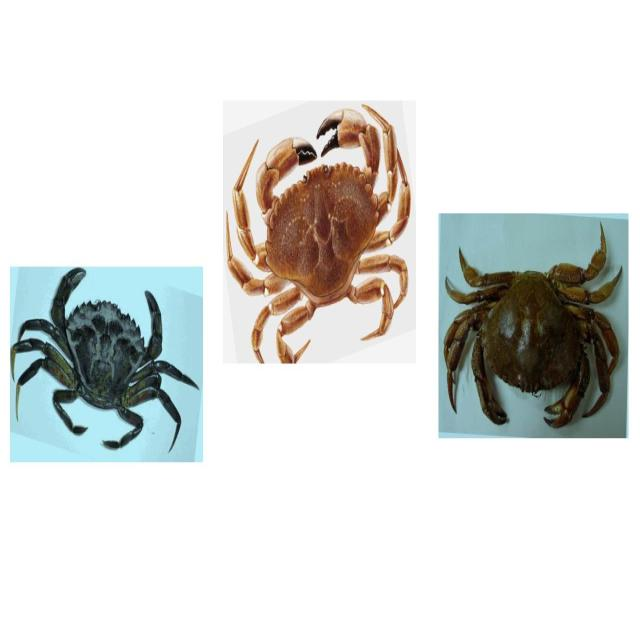egc: (9, 267, 201, 462)
jonah_crab: (224, 100, 418, 374)
rock_crab: (441, 214, 625, 438)
